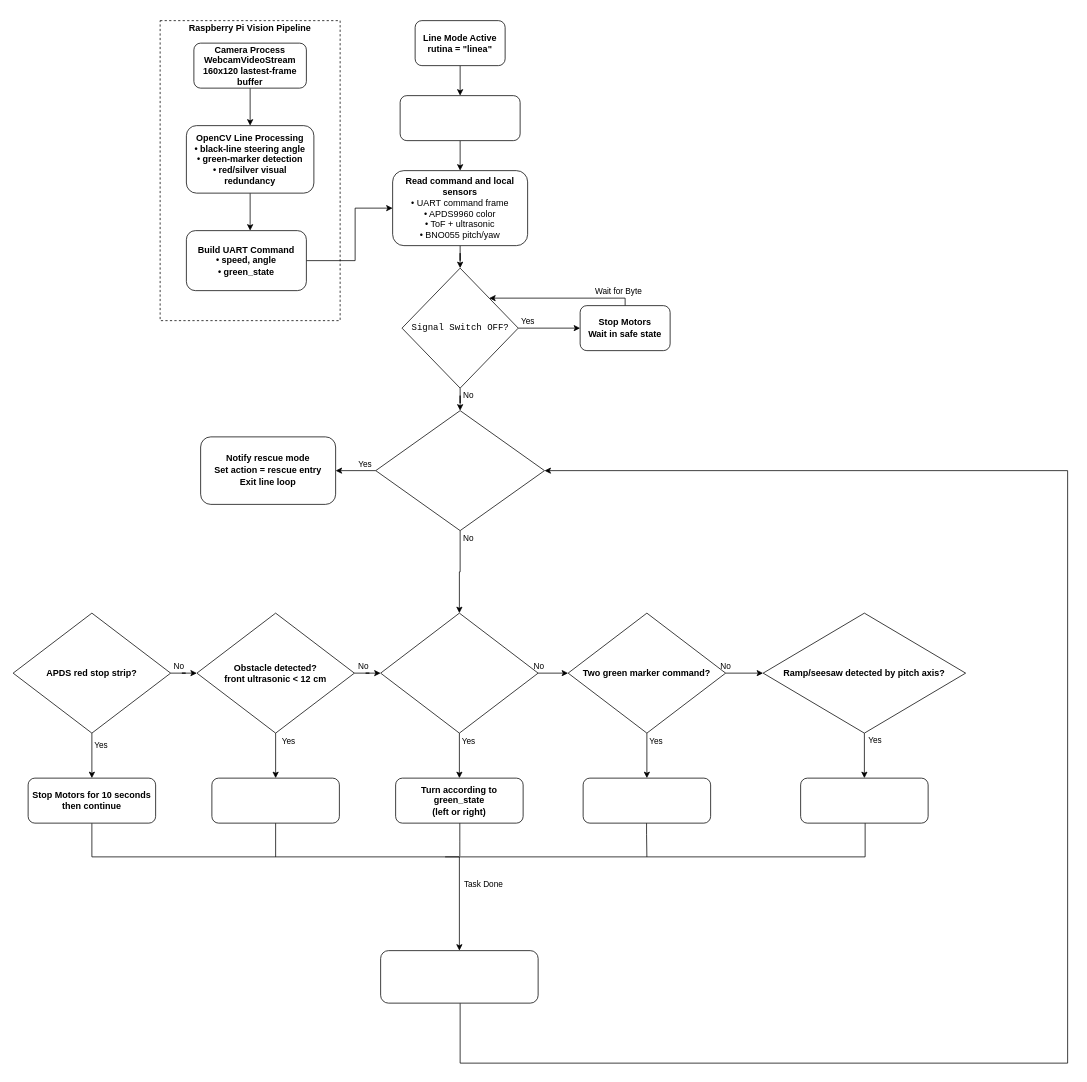
This 1087x1082 diagram has some shape labels left out. Each missing label, with the centre of its shape:
Adjust baseline speed and keep line steering: the point at 864,800
Normal line steering • steer from RPi angle: the point at 459,976
Obstacle bypass turn + curve until black line: the point at 275,800
Reset Line variables Turn ON robot indicators: the point at 459,118
Rotate 180 degrees using BNO055: the point at 646,800
Silver entrance confirmed? APDS Plateado or silver_line: the point at 459,470
Single green marker command?: the point at 459,672
